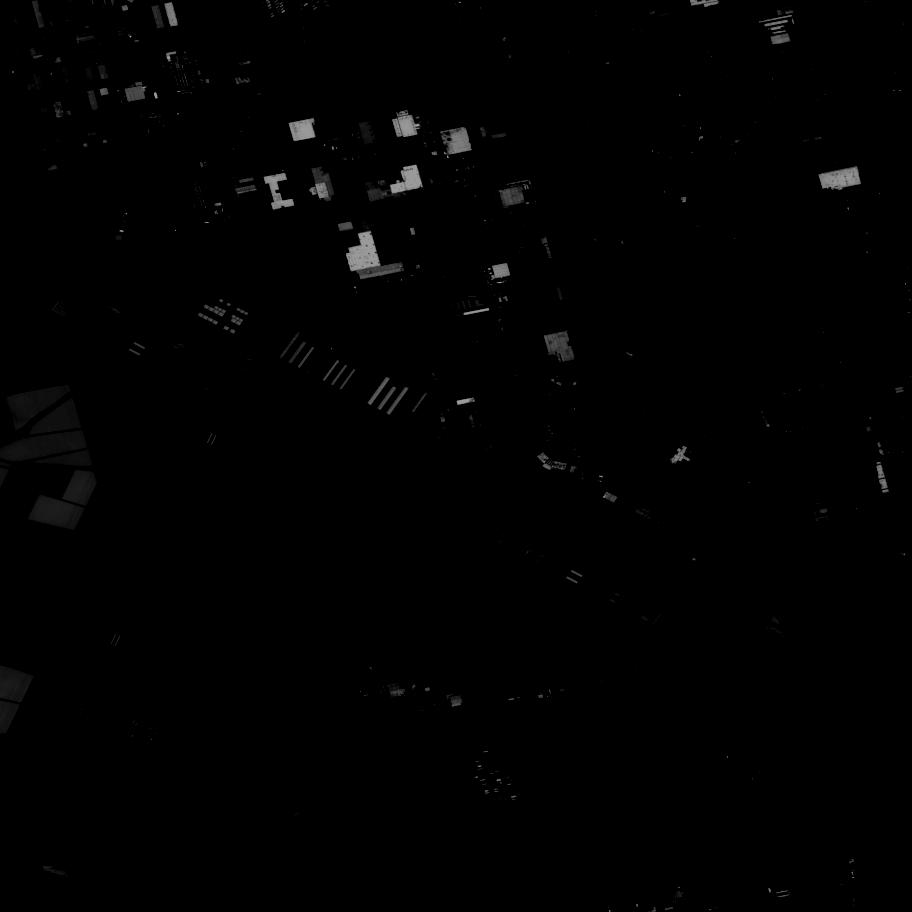plane: (407, 683, 421, 694), (365, 663, 377, 673), (690, 556, 699, 564), (443, 432, 451, 440), (398, 689, 406, 696), (525, 550, 531, 556), (693, 551, 701, 555), (422, 425, 427, 430), (358, 682, 364, 686), (420, 428, 425, 432), (665, 595, 669, 599), (348, 678, 352, 682), (405, 683, 409, 687), (437, 438, 442, 441), (425, 431, 428, 435), (430, 435, 433, 438), (448, 414, 451, 417), (419, 431, 422, 433), (440, 435, 443, 437), (447, 409, 450, 411), (446, 416, 447, 416)
